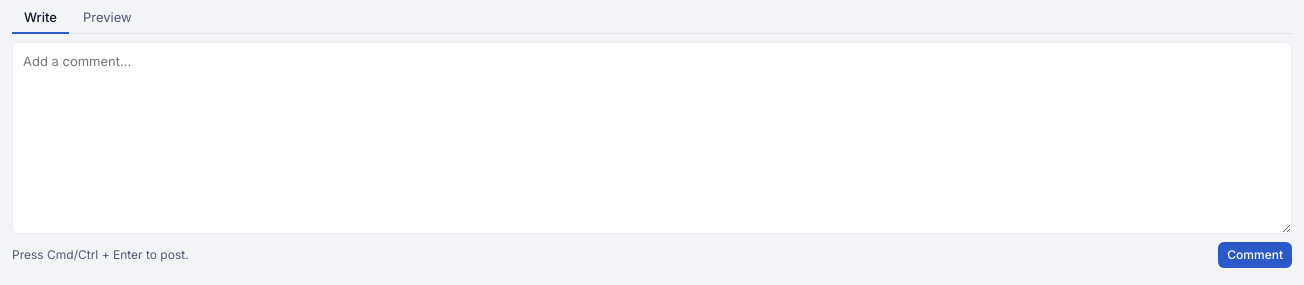
Scenario: ActionCommentComposer › keeps the draft and shows an error when posting fails
Type "will fail" into the text box with test id "action-comment-body-textarea" at (652, 138), box top-left (12, 42), bottom-right (1292, 234)
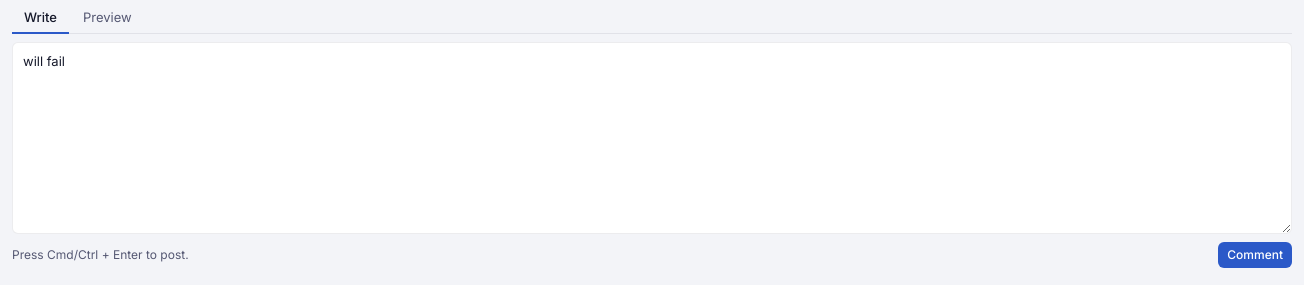
Click the button with test id "action-comment-submit" at (1255, 254), box top-left (1218, 242), bottom-right (1292, 268)
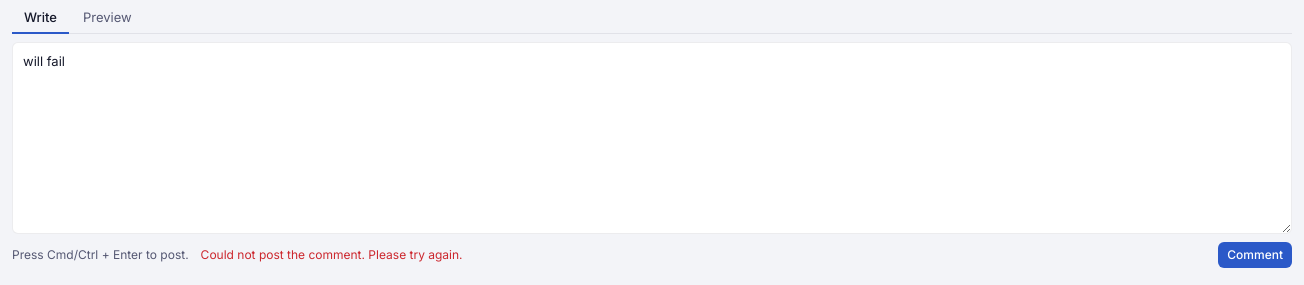
Check: the message "Could not post the comment. Please try again." is shown, box top-left (201, 247), bottom-right (462, 262)
